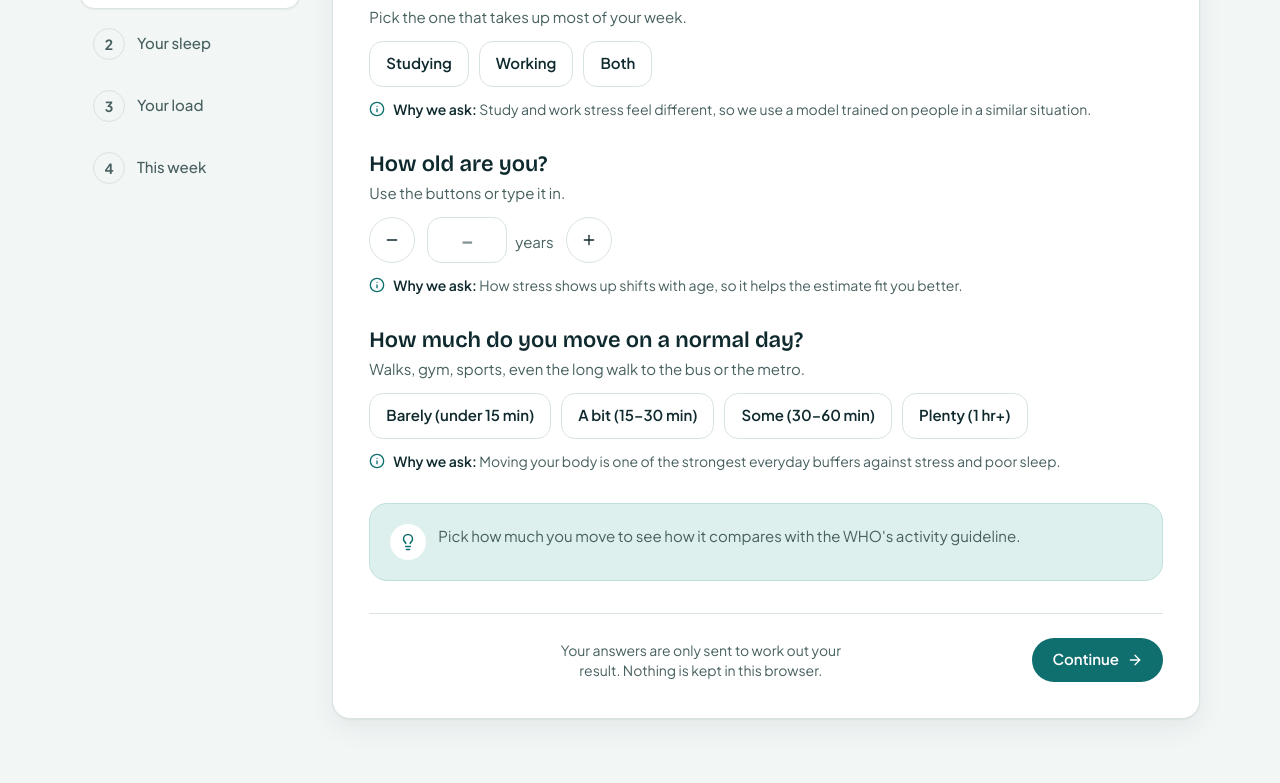
Test: questionnaire › required answers are enforced before moving on
The width and height of the screenshot is (1280, 783).
(page scrolled)
Click the button "Continue". click: (1098,660)
box: [1032,638,1163,682]
(page scrolled)
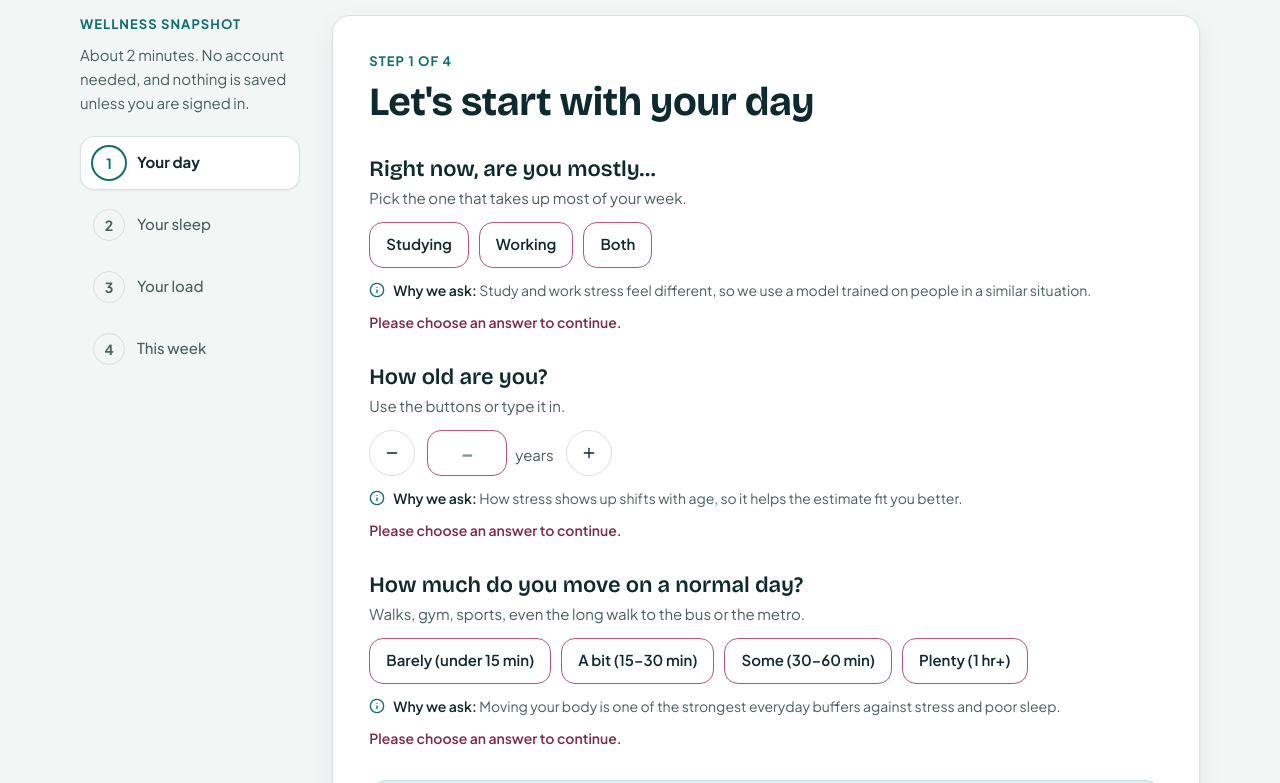
Expected: the heading "Let's start with your day" is shown, [369,78,814,126]
Expected: the text "Please choose an answer to continue." is shown 3 times, [369,312,622,330]; [369,520,622,538]; [369,728,622,746]
